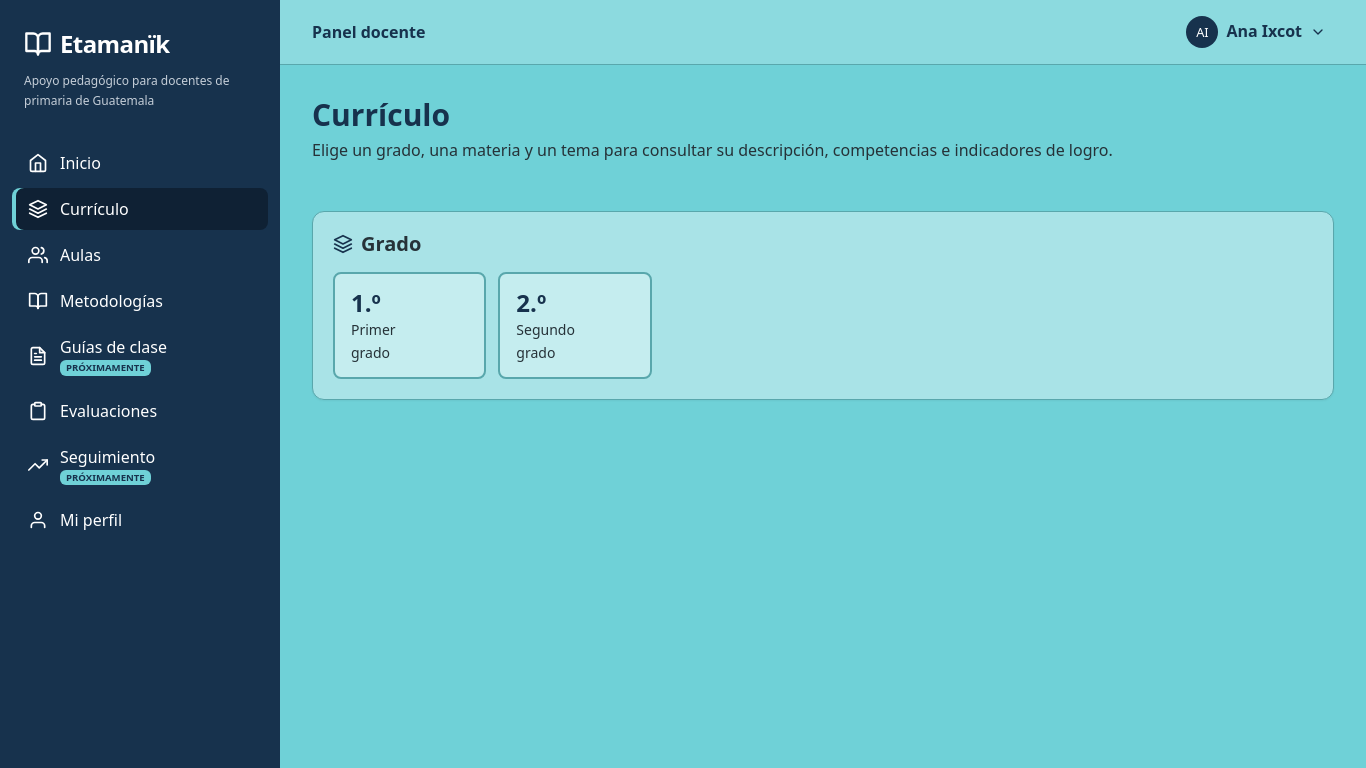
Test: Página de currículo › recorre grado → materia → tema y muestra el contenido curricular
This screenshot has width=1366, height=768.
Step 1. Click the radio button labelled "1.º Primer grado" → point(410, 325), box top-left (333, 272), bottom-right (486, 378)
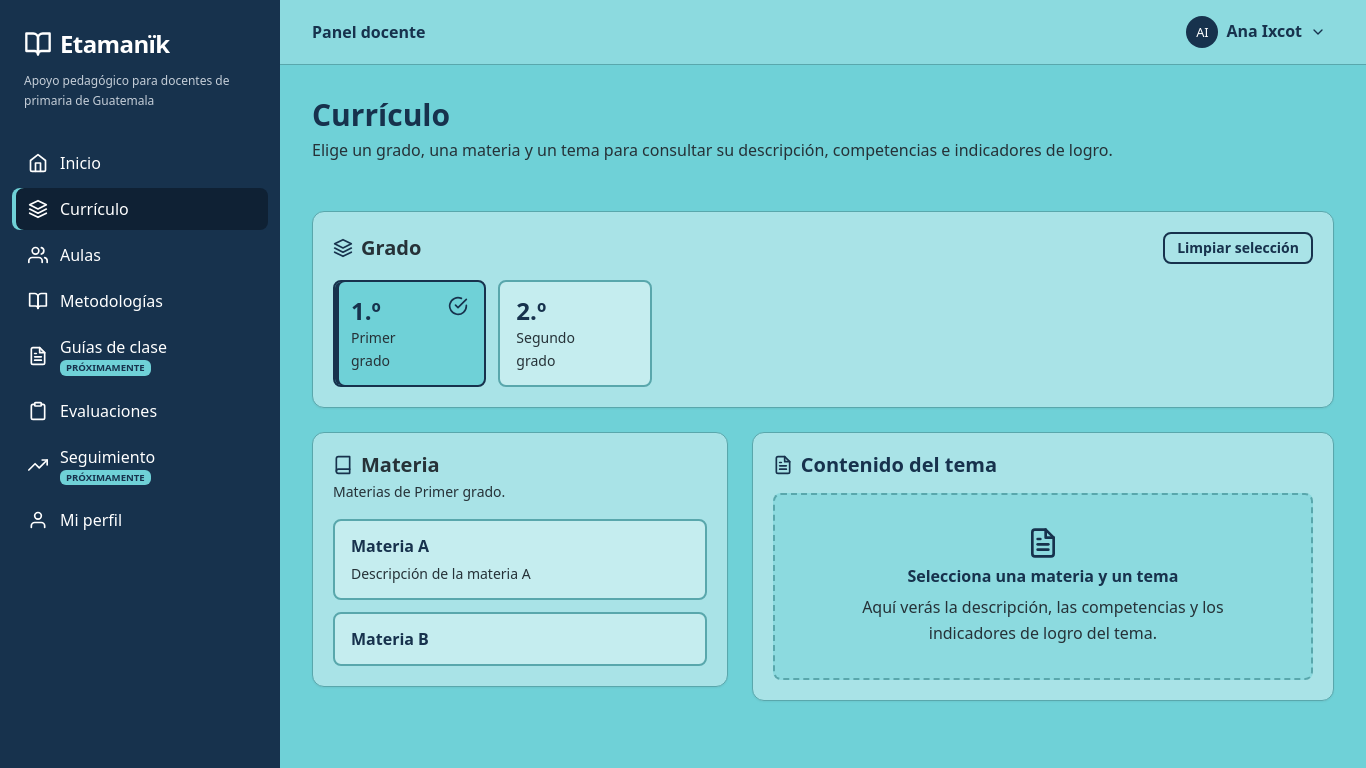
Check: the radio button labelled "Materia A Descripción de la materia A" is shown
Check: the radio button labelled "Materia B" is shown, box top-left (333, 612), bottom-right (707, 666)
Step 2. Click the radio button labelled "Materia A Descripción de la materia A" → point(520, 560), box top-left (333, 519), bottom-right (707, 600)
(page scrolled)
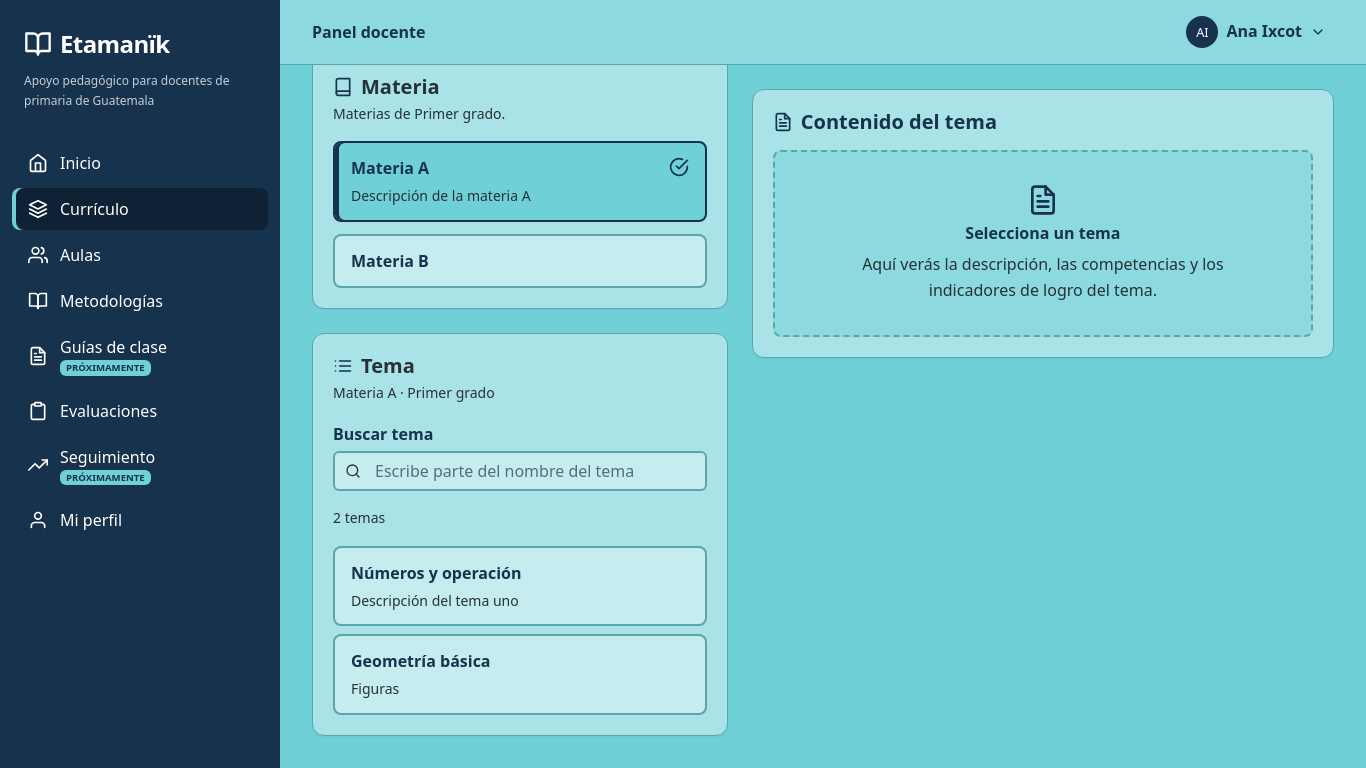
Check: the radio button labelled "Números y operación Descripción del tema uno" is shown
Step 3. Click the radio button labelled "Números y operación Descripción del tema uno" → point(520, 586), box top-left (333, 546), bottom-right (707, 626)
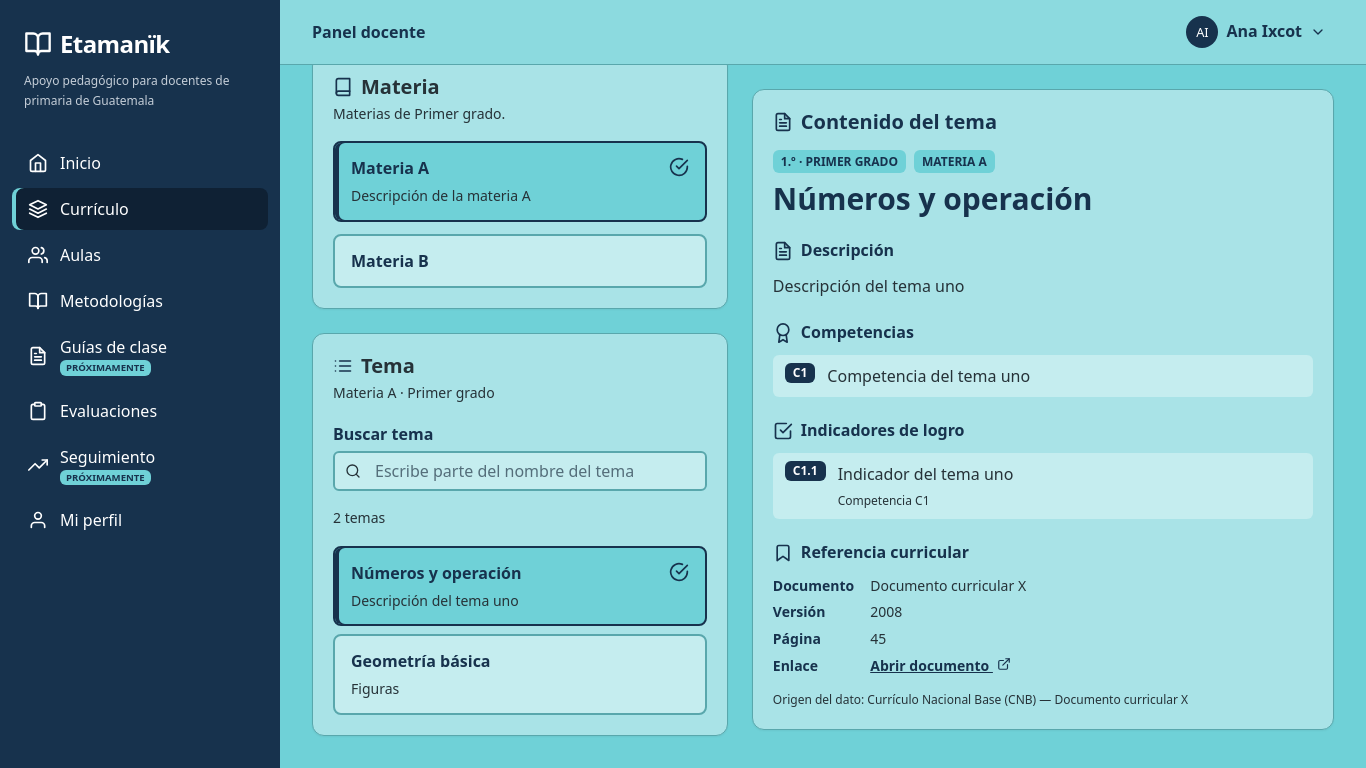
Check: the heading "Números y operación" is shown, box top-left (773, 178), bottom-right (1093, 218)
Check: the text "Descripción del tema uno" below "1.º ·" is shown, box top-left (773, 274), bottom-right (964, 296)
Check: the text "Competencia del tema uno" is shown, box top-left (827, 362), bottom-right (1030, 388)
